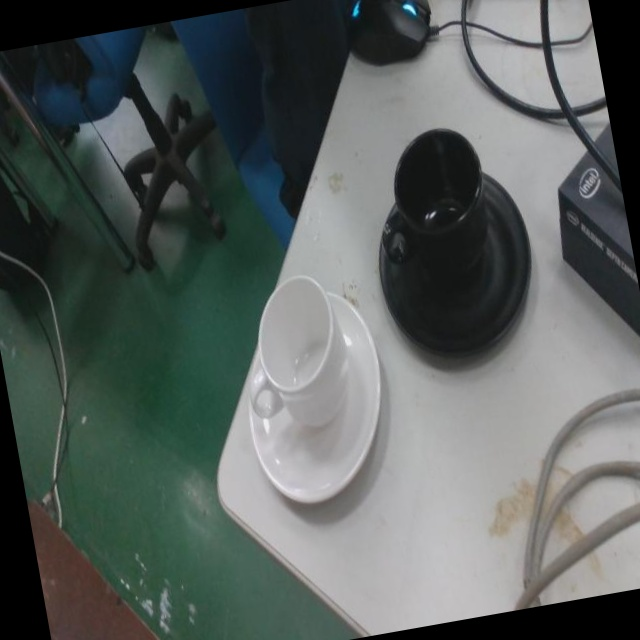black: (374, 125, 531, 365)
white: (243, 271, 384, 508)
